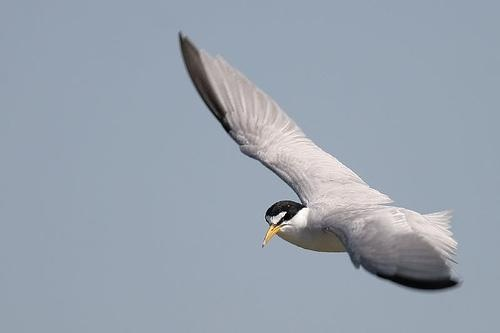bird: (176, 30, 466, 293)
